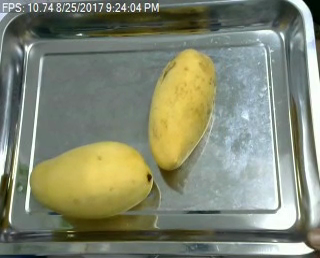Mango: (29, 139, 156, 223), (147, 48, 218, 172)
